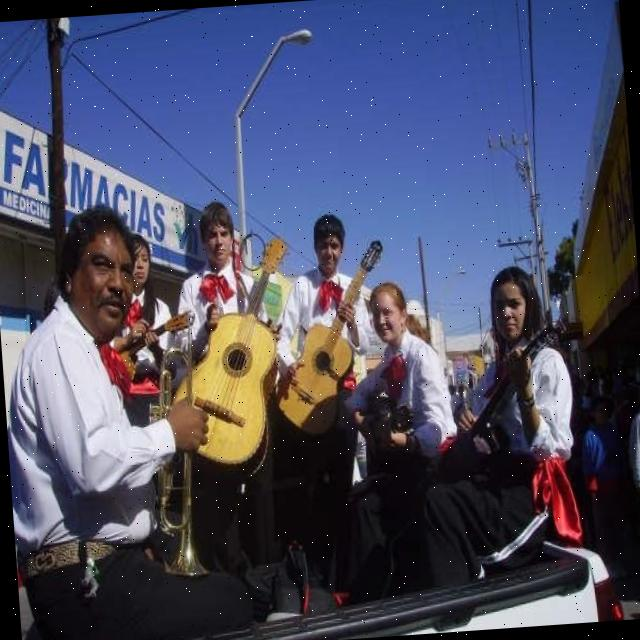guitar: (159, 234, 304, 484), (264, 235, 398, 442), (428, 321, 568, 482), (115, 307, 196, 374), (358, 401, 415, 453)
